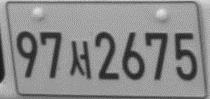2: (94, 30, 119, 80)
5: (174, 31, 197, 81)
6: (121, 31, 145, 80)
7: (144, 31, 168, 81), (39, 30, 61, 78)
9: (15, 30, 38, 78)
서: (69, 39, 91, 79)
